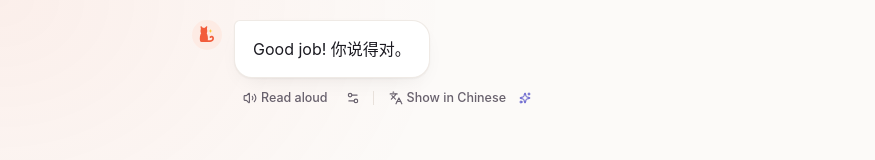
Test: ReplyTools › reads only the English, and says so once, where the device has no Chinese voice
Click the button "Read aloud": [285, 98] box [234, 84, 337, 112]
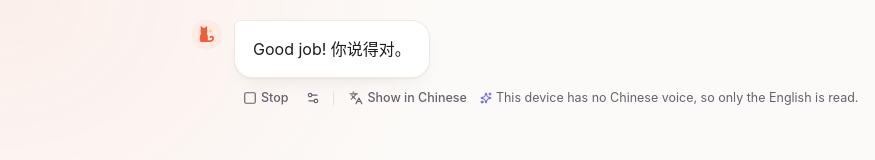
expect the message with test id "no-chinese-voice" shows "no Chinese voice": met, box [496, 90, 858, 105]
